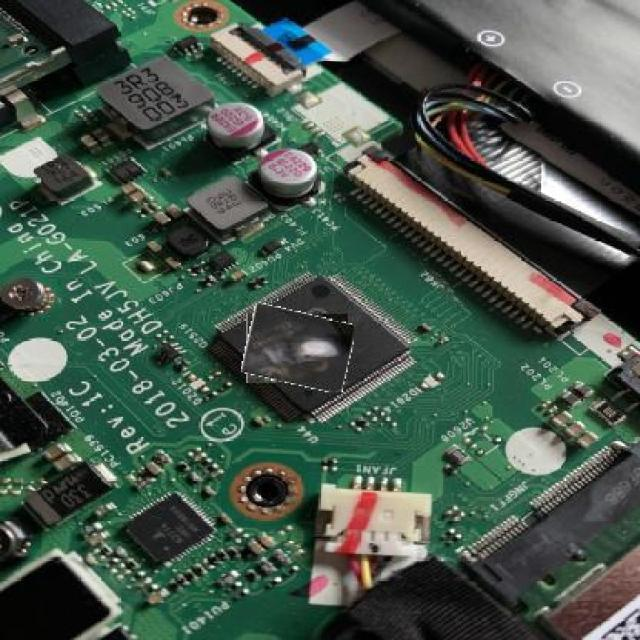Burn: (243, 309, 352, 389)
